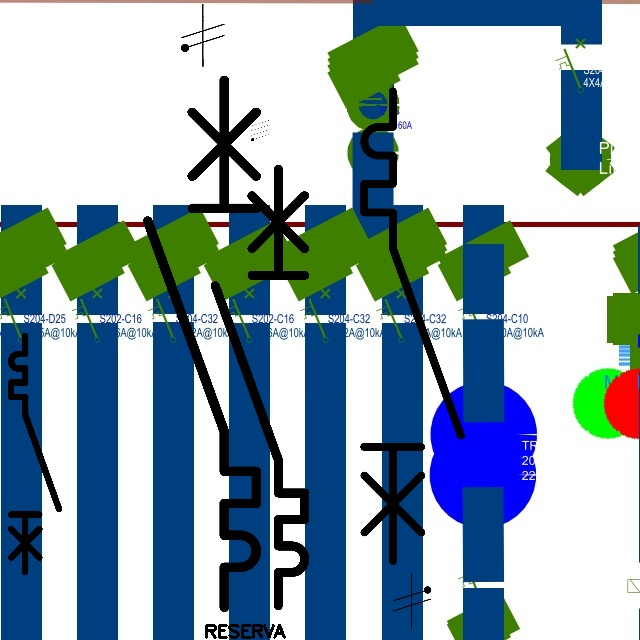interruptor_termomagnetico: (134, 66, 270, 620), (352, 79, 473, 573), (204, 157, 316, 616), (5, 330, 65, 578)
